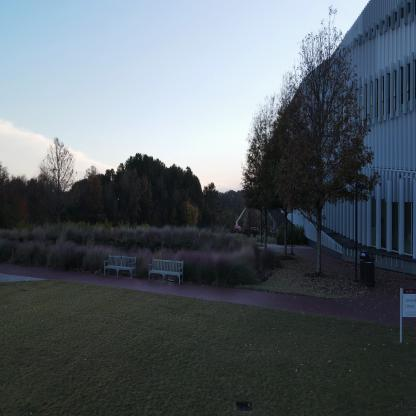Hunt Library: (240, 2, 416, 304)
